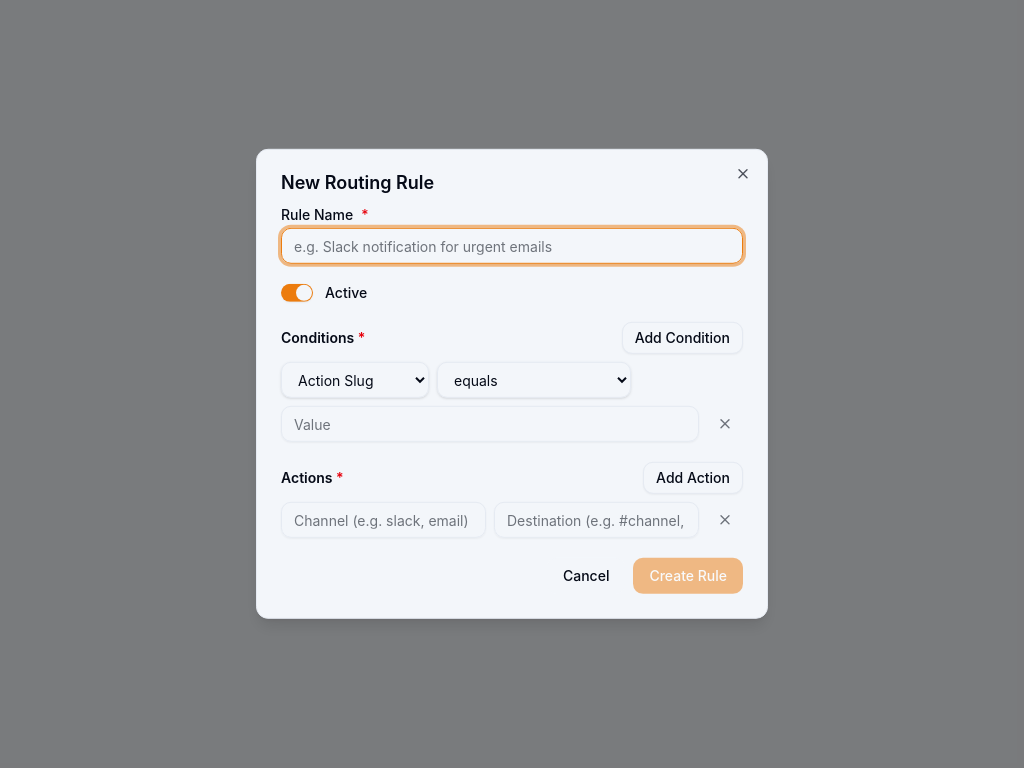
RuleBuilder — add/remove condition rows › shows empty hint when all conditions are removed
The image size is (1024, 768).
Click the button named "remove condition 1" at (725,424), box [707,406,743,442]
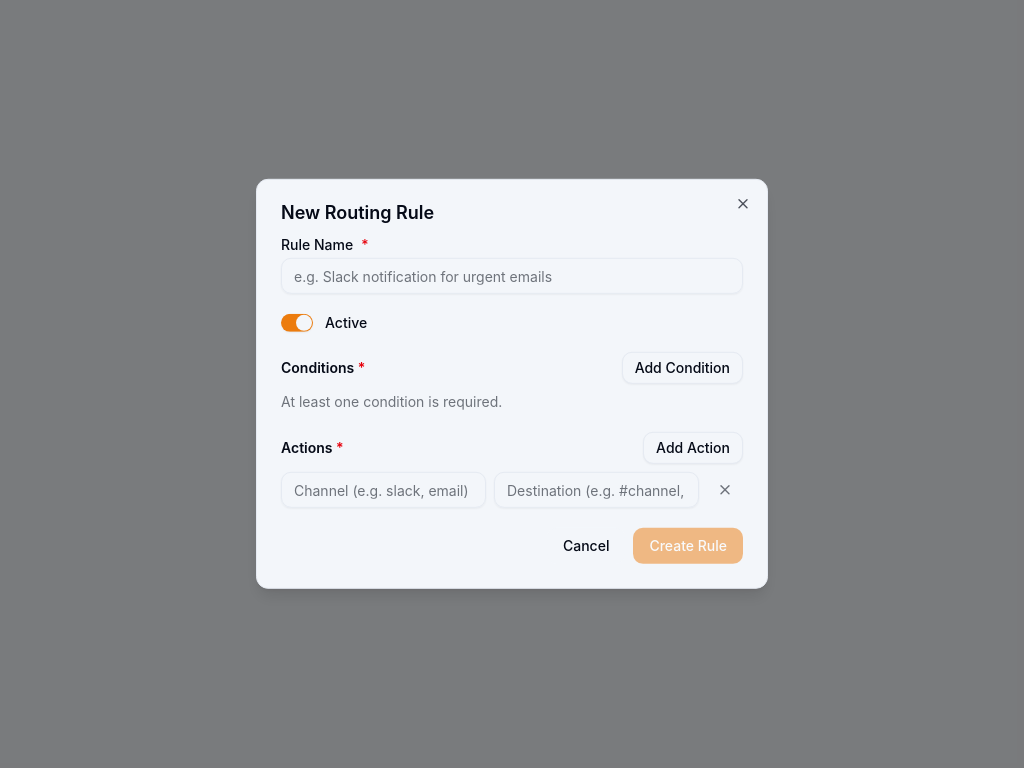
Check: the text "At least one condition is required." is shown, box [281,393,502,410]
